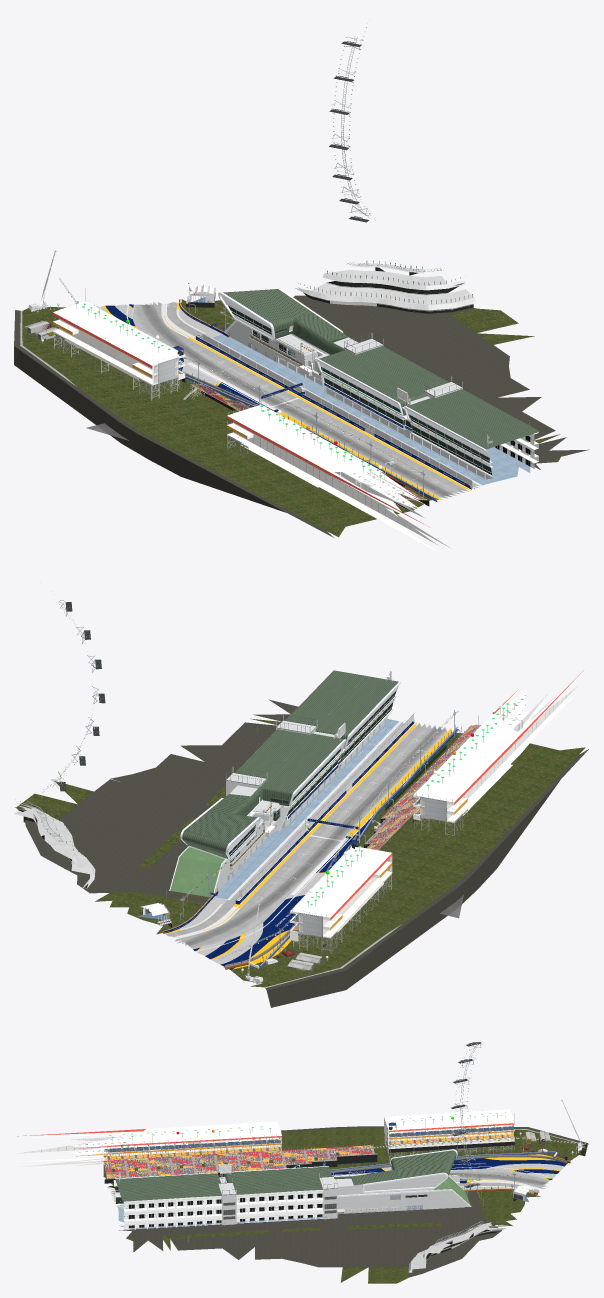
3 renders of one model, top to bottom at view 1: azimuth 30°, elevation 25°; view 2: azimuth 150°, elevation 25°; view 3: azimuth 270°, elevation 25°, orthographic. The views are drawn at different scales.
Parts seen in each view (by area): view 1: m97_t12, m96_t12, m87_t12, m83_t12, m15_t12, m61_t12, m82_t12, m0_t12, m99_t12, m8_t12, m85_t12, m94_t12 (+7 smaller); view 2: m96_t12, m97_t12, m83_t12, m87_t12, m15_t12, m0_t12, m85_t12, m82_t12, m61_t12, m99_t12, m94_t12, m17_t12 (+10 smaller); view 3: m96_t12, m83_t12, m87_t12, m97_t12, m82_t12, m9_t12, m12_t12, m13_t12, m91_t12, m61_t12, m88_t12, m15_t12 (+11 smaller).
Part boxes in pixels (x1,y1,x2,y2): m97_t12: (22, 299, 560, 537); m96_t12: (14, 295, 589, 537); m87_t12: (52, 289, 451, 552); m83_t12: (223, 289, 539, 479); m15_t12: (20, 302, 479, 498); m61_t12: (294, 36, 476, 313); m82_t12: (218, 288, 538, 477); m0_t12: (28, 249, 493, 500); m99_t12: (212, 334, 530, 485); m8_t12: (228, 306, 492, 475); m85_t12: (78, 301, 471, 501); m94_t12: (143, 304, 451, 497); m96_t12: (25, 699, 588, 1007); m97_t12: (16, 718, 585, 987); m83_t12: (170, 670, 398, 897); m87_t12: (290, 670, 586, 953); m15_t12: (166, 722, 447, 987); m0_t12: (157, 671, 449, 984); m85_t12: (164, 721, 458, 969); m82_t12: (169, 681, 400, 893); m61_t12: (14, 600, 105, 888); m99_t12: (214, 718, 398, 899); m94_t12: (182, 727, 444, 945); m17_t12: (165, 722, 453, 969); m96_t12: (119, 1126, 587, 1277); m83_t12: (115, 1150, 470, 1224); m87_t12: (15, 1109, 514, 1167); m97_t12: (103, 1128, 587, 1283); m82_t12: (113, 1149, 471, 1229); m9_t12: (102, 1145, 371, 1178); m12_t12: (99, 1108, 514, 1161); m13_t12: (104, 1146, 371, 1178); m91_t12: (69, 1124, 512, 1156); m61_t12: (408, 1041, 505, 1272); m88_t12: (104, 1145, 377, 1183); m15_t12: (110, 1129, 583, 1205).
Size of the model in its own units: 222 by 147 by 332.
35 materials, 34 textured.
